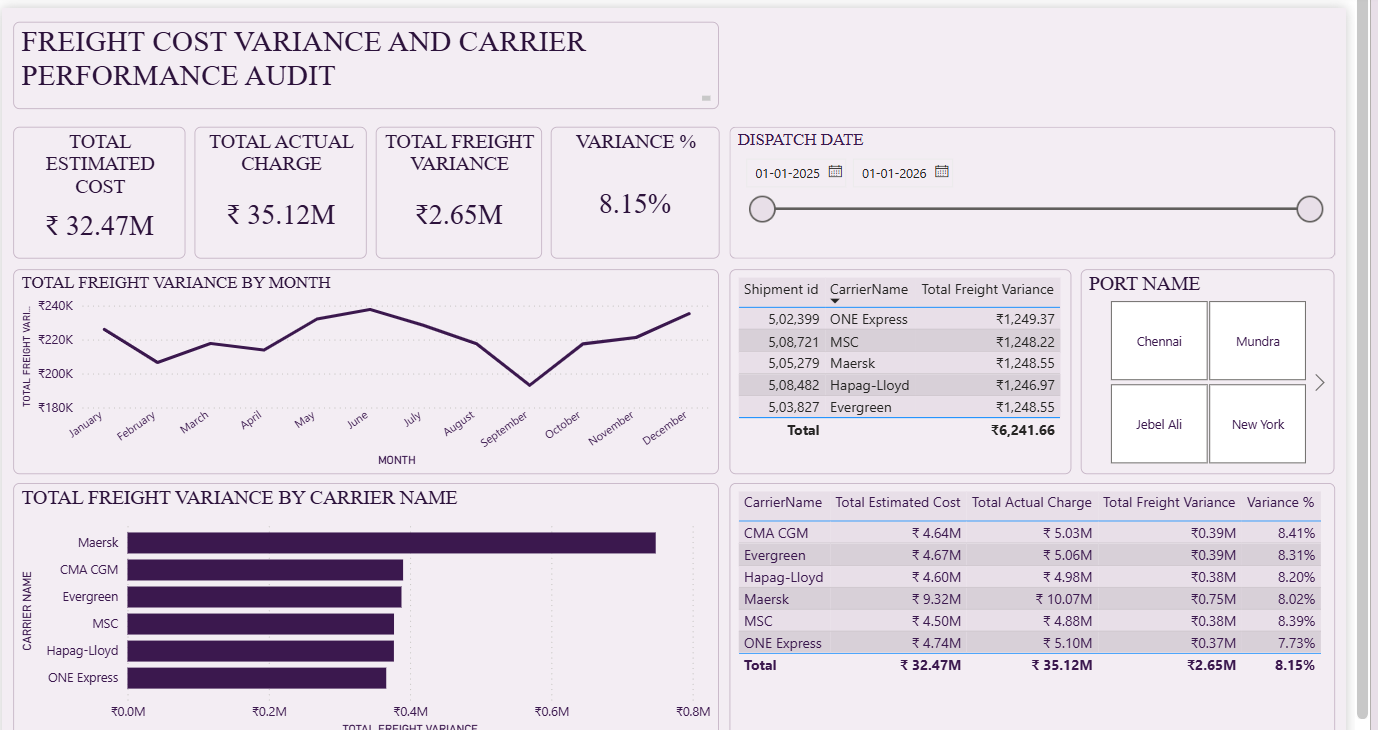

The dashboard page shown, as its layout file describes it:
{"tool":"powerbi","page":{"name":"Page 1","canvas":[1280,720],"ordinal":0},"visuals":[{"type":"card","title":"TOTAL ESTIMATED COST","fields":{"Values":["Dim_Carriers.Total Estimated Cost"]},"box":[10.9,113.4,164.1,125.5],"z":0},{"type":"card","title":"TOTAL ACTUAL CHARGE","fields":{"Values":["Dim_Carriers.Total Actual Charge"]},"box":[183.4,113.4,164.1,125.5],"z":1000},{"type":"card","title":"TOTAL FREIGHT VARIANCE","fields":{"Values":["Dim_Carriers.Total Freight Variance"]},"box":[355.9,113.4,158,125.5],"z":2000},{"type":"card","title":"VARIANCE %","fields":{"Values":["Dim_Carriers.Variance %"]},"box":[522.4,113.4,160.5,125.5],"z":3000},{"type":"clusteredBarChart","title":"TOTAL FREIGHT VARIANCE BY CARRIER NAME","fields":{"Category":["Dim_Carriers.CarrierName"],"Y":["Dim_Carriers.Total Freight Variance"]},"box":[10.9,452.4,672,248.5],"z":4000},{"type":"slicer","title":"DISPATCH DATE","fields":{"Values":["Fact_Shipments_audit.DispatchDate"]},"box":[692.5,113.4,576.7,125.5],"z":5000},{"type":"slicer","title":"PORT NAME","fields":{"Values":["Dim_Ports.PortName"]},"box":[1027.8,248.4,241.5,194.9],"z":6000},{"type":"tableEx","fields":{"Values":["Dim_Carriers.CarrierName","Dim_Carriers.Total Estimated Cost","Dim_Carriers.Total Actual Charge","Dim_Carriers.Total Freight Variance","Dim_Carriers.Variance %"]},"box":[692.5,452.4,576.7,248.5],"z":7000},{"type":"textbox","title":"FREIGHT COST VARIANCE AND CARRIER PERFORMANCE AUDIT","box":[10.9,13.3,672,83.2],"z":8000},{"type":"lineChart","title":"TOTAL FREIGHT VARIANCE BY MONTH","fields":{"Y":["Dim_Carriers.Total Freight Variance"],"Category":["Fact_Shipments_audit.DispatchDate.Variation.Date Hierarchy.Month"]},"box":[10.9,248.5,672,195.4],"z":9000},{"type":"tableEx","fields":{"Values":["Fact_Shipments_audit.ShipmentID","Dim_Carriers.CarrierName","Dim_Carriers.Total Freight Variance"]},"box":[693,248.4,325.2,194.9],"z":10000}]}

Visuals, with their boxes on the page's 1280x720 design canvas (x1, y1, x2, y2). These are canvas units, not pixel positions in the 1378x730 screenshot, which may show the page scaled, cropped or inside an application window:
"TOTAL ESTIMATED COST" card: region(11, 113, 175, 239)
"TOTAL ACTUAL CHARGE" card: region(183, 113, 348, 239)
"TOTAL FREIGHT VARIANCE" card: region(356, 113, 514, 239)
"VARIANCE %" card: region(522, 113, 683, 239)
"TOTAL FREIGHT VARIANCE BY CARRIER NAME" clusteredBarChart: region(11, 452, 683, 701)
"DISPATCH DATE" slicer: region(692, 113, 1269, 239)
"PORT NAME" slicer: region(1028, 248, 1269, 443)
tableEx - Dim_Carriers.CarrierName x Dim_Carriers.Total Estimated Cost: region(692, 452, 1269, 701)
"FREIGHT COST VARIANCE AND CARRIER PERFORMANCE AUDIT" textbox: region(11, 13, 683, 96)
"TOTAL FREIGHT VARIANCE BY MONTH" lineChart: region(11, 248, 683, 444)
tableEx - Fact_Shipments_audit.ShipmentID x Dim_Carriers.CarrierName: region(693, 248, 1018, 443)
